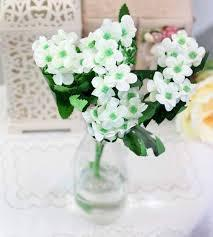jasmine: (76, 12, 141, 93), (153, 24, 205, 111), (74, 91, 135, 148), (28, 27, 79, 86)
